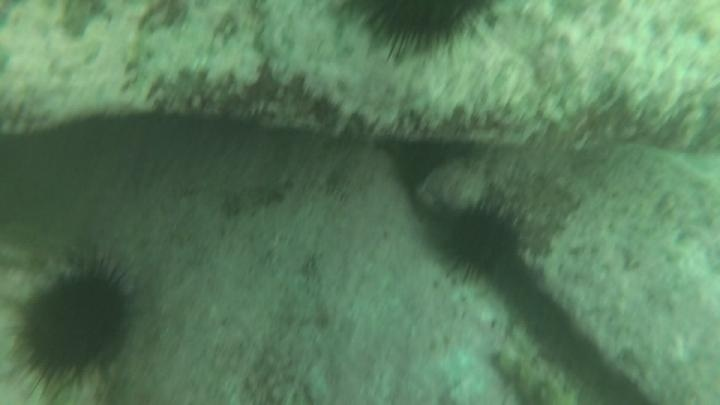echinus: (5, 250, 143, 398), (330, 1, 502, 65), (433, 194, 526, 284)
holothurian: (488, 340, 585, 405)
